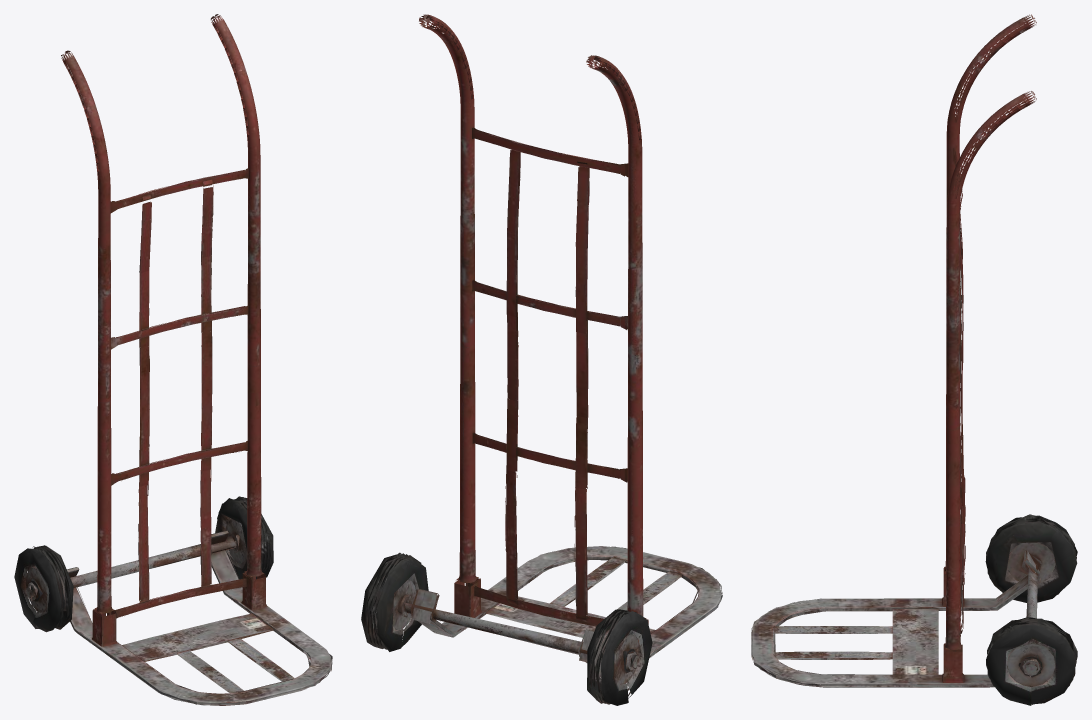
File: isl_handtruck.glb
3 renders of one model, left to right at view 1: azimuth 30°, elevation 25°; view 2: azimuth 150°, elevation 25°; view 3: azimuth 270°, elevation 25°, orthographic. The views are drawn at different scales.
Visible parts, largest first — view 1: hand_truck; view 2: hand_truck; view 3: hand_truck.
Boxes of the visible parts, left/top/right/bottom form: hand_truck: left=14, top=14, right=332, bottom=705; hand_truck: left=361, top=14, right=722, bottom=705; hand_truck: left=751, top=14, right=1077, bottom=705.
Size of the model in its own units: 0.5933 by 1.4 by 0.6954.
Materials: 1 (1 with a texture image).
